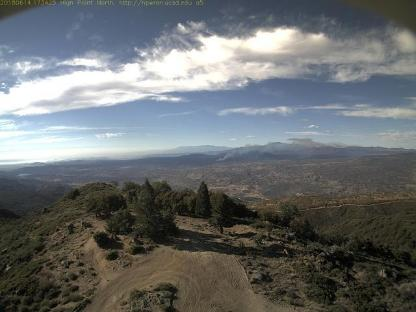smoke: (211, 134, 320, 161)
